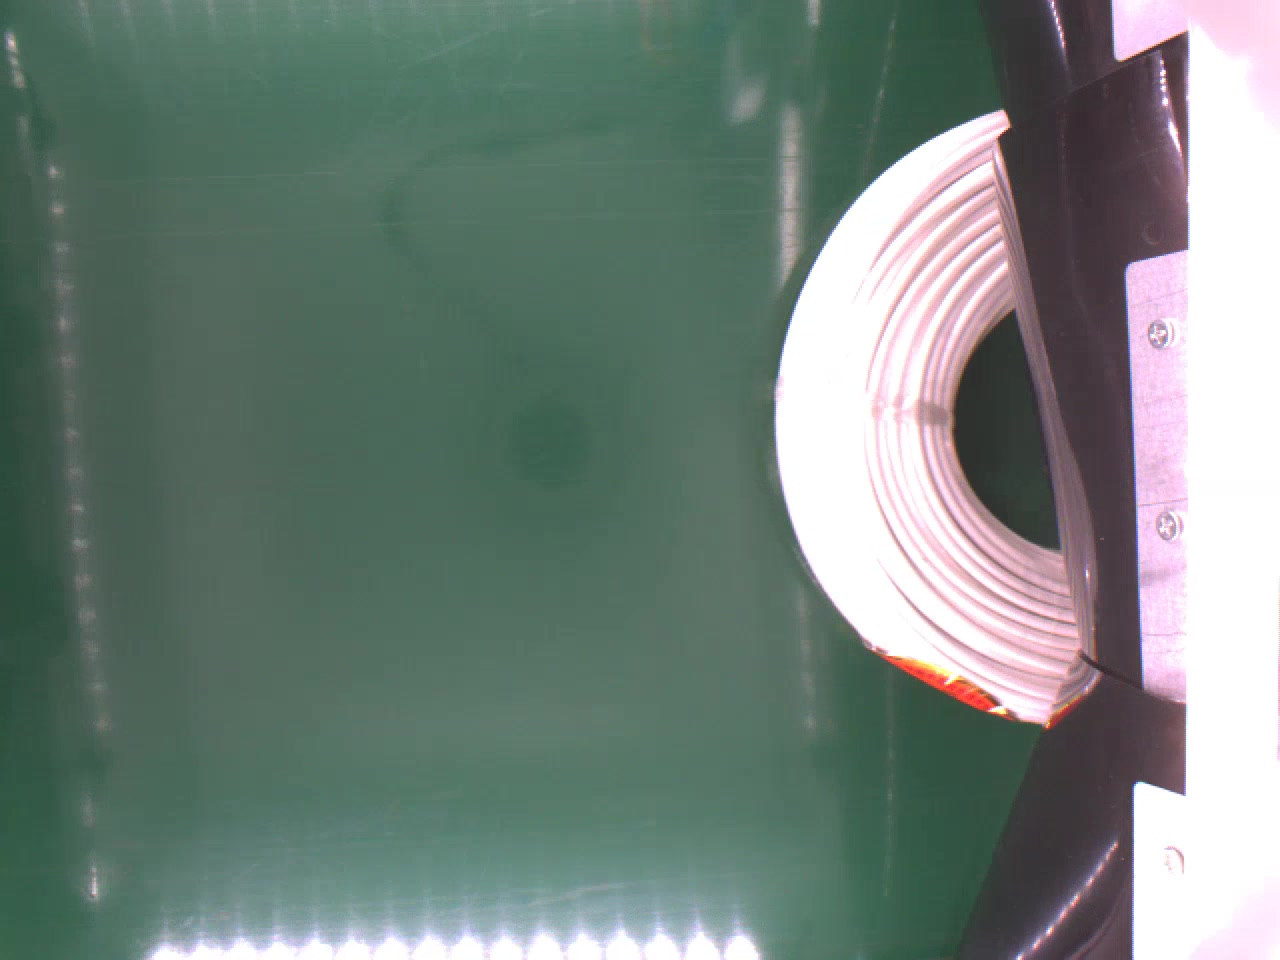white: (769, 103, 1076, 725)
